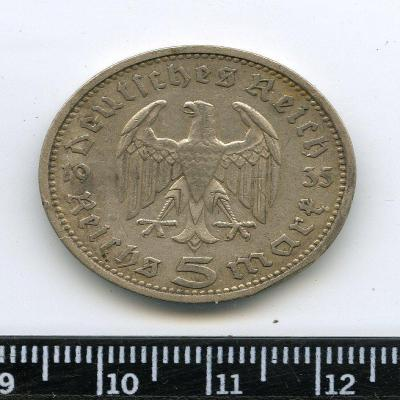numismatics: (39, 46, 355, 302)
